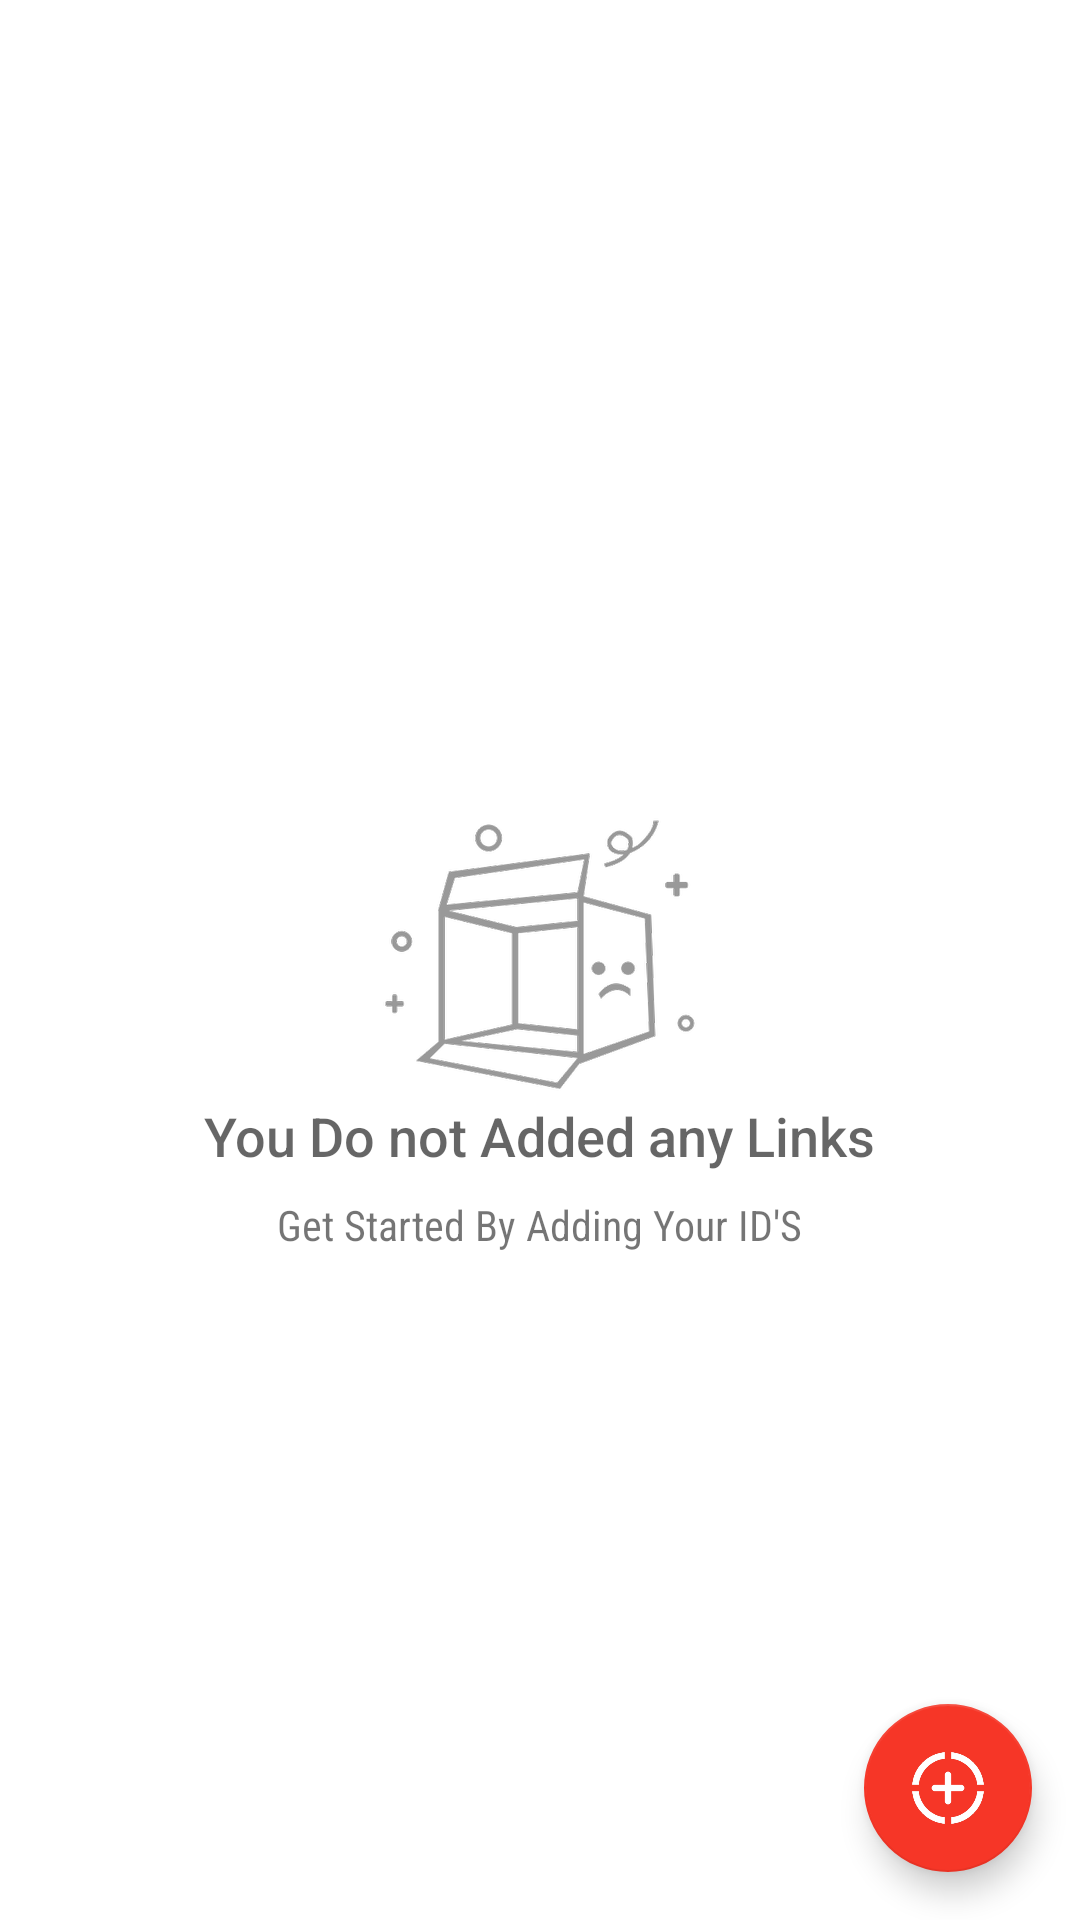

Screen size 1080px x 1920px. Icon name, then its box in pixels as (x1, y1, x2, y2):
add: (864, 1704, 1032, 1872)
empty mage: (385, 820, 704, 1152)
